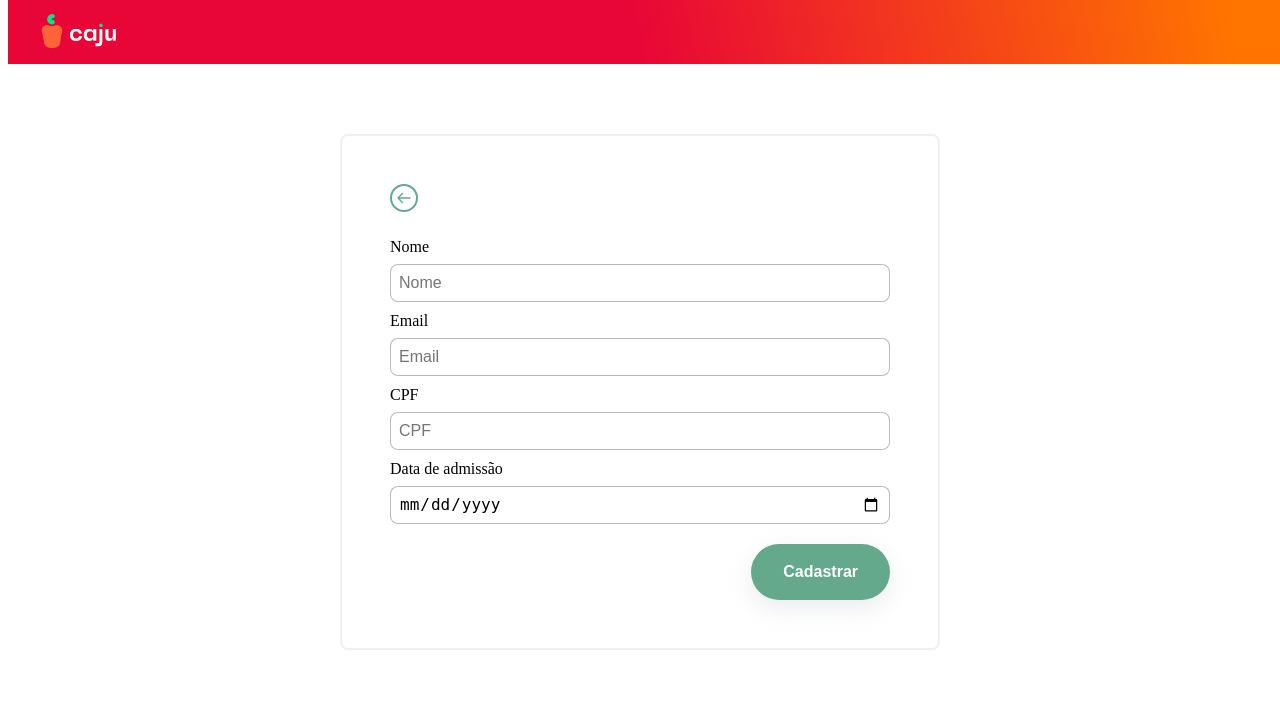
Test: NewRegistration Page › should validate form fields
Step 1. Click the submit button → (821, 572), box [751,544,890,600]
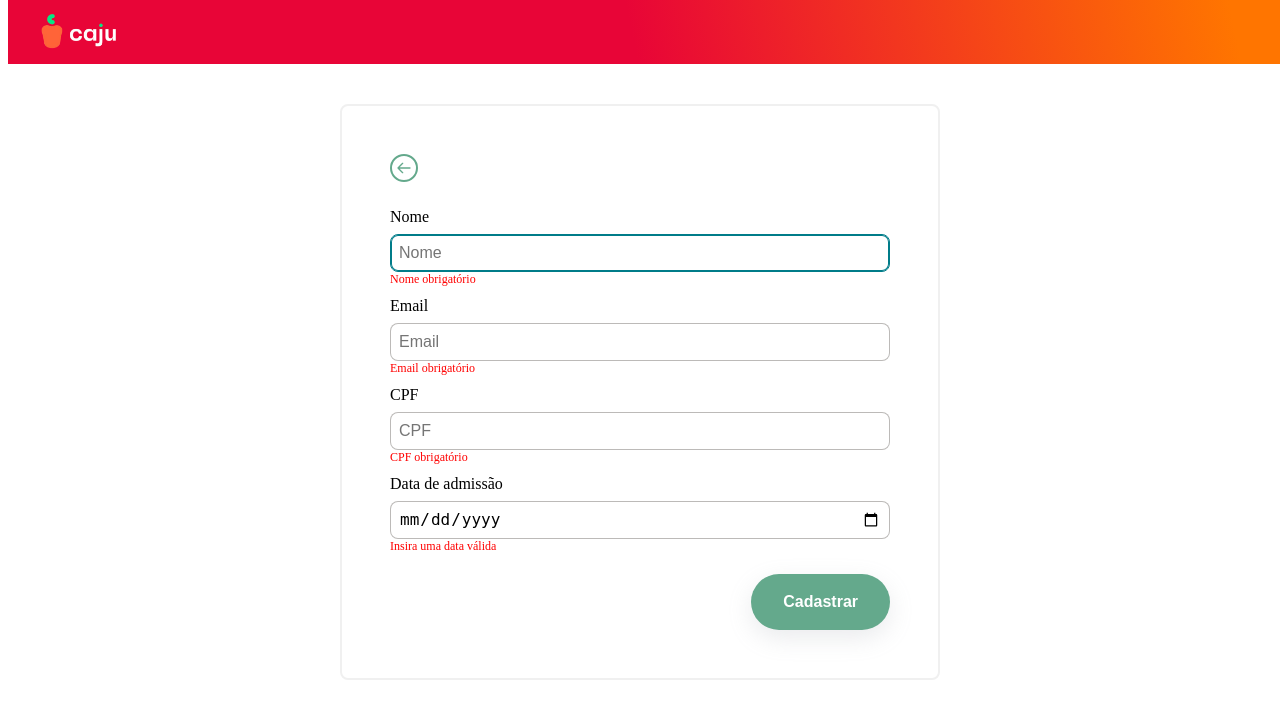
Expected: the text "Nome obrigatório" is shown, [390,272,476,286]
Expected: the text "Email obrigatório" is shown, [390,361,475,375]
Expected: the text "CPF obrigatório" is shown, [390,450,468,464]
